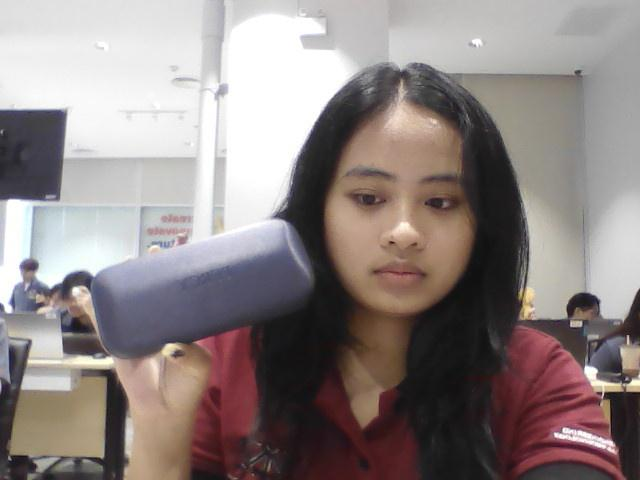glasses box: (78, 219, 340, 370)
